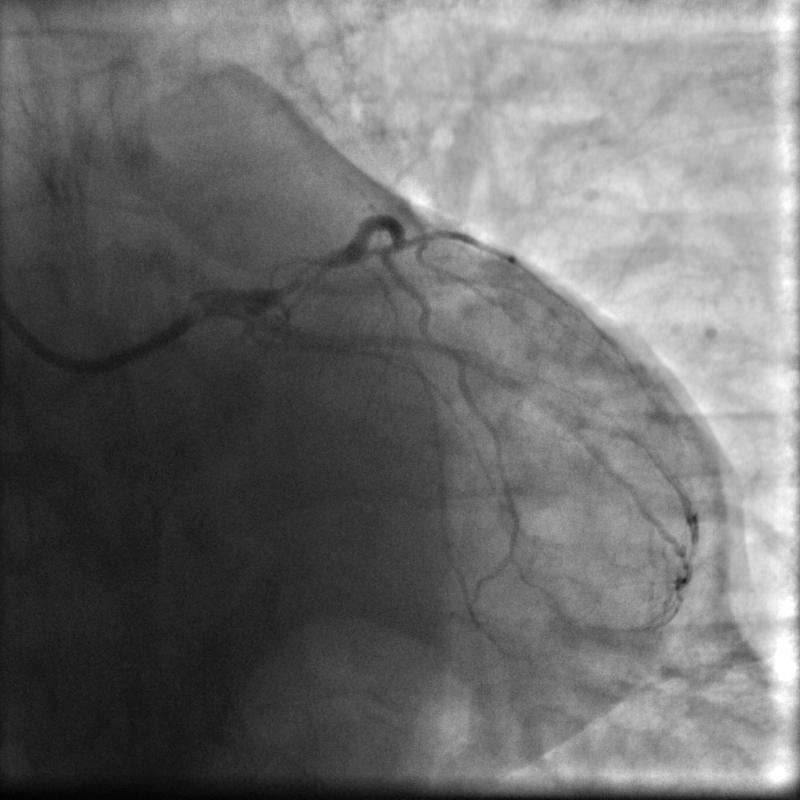Stenosis: (269, 253, 340, 294)
